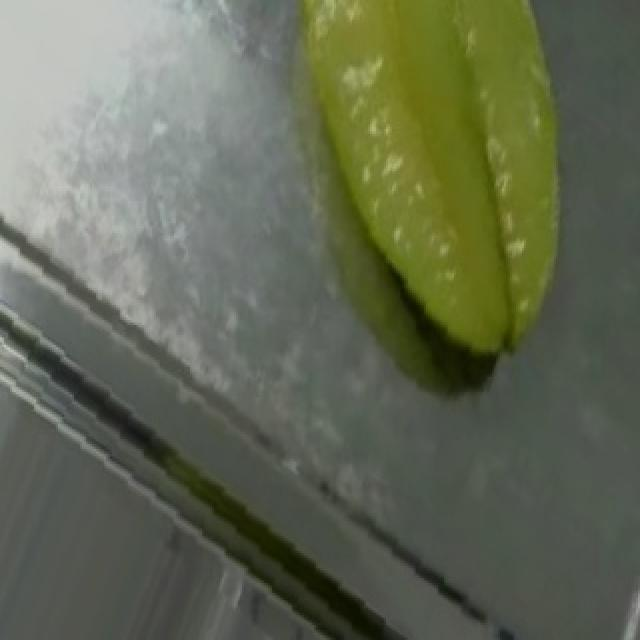fruit: (234, 0, 640, 337)
